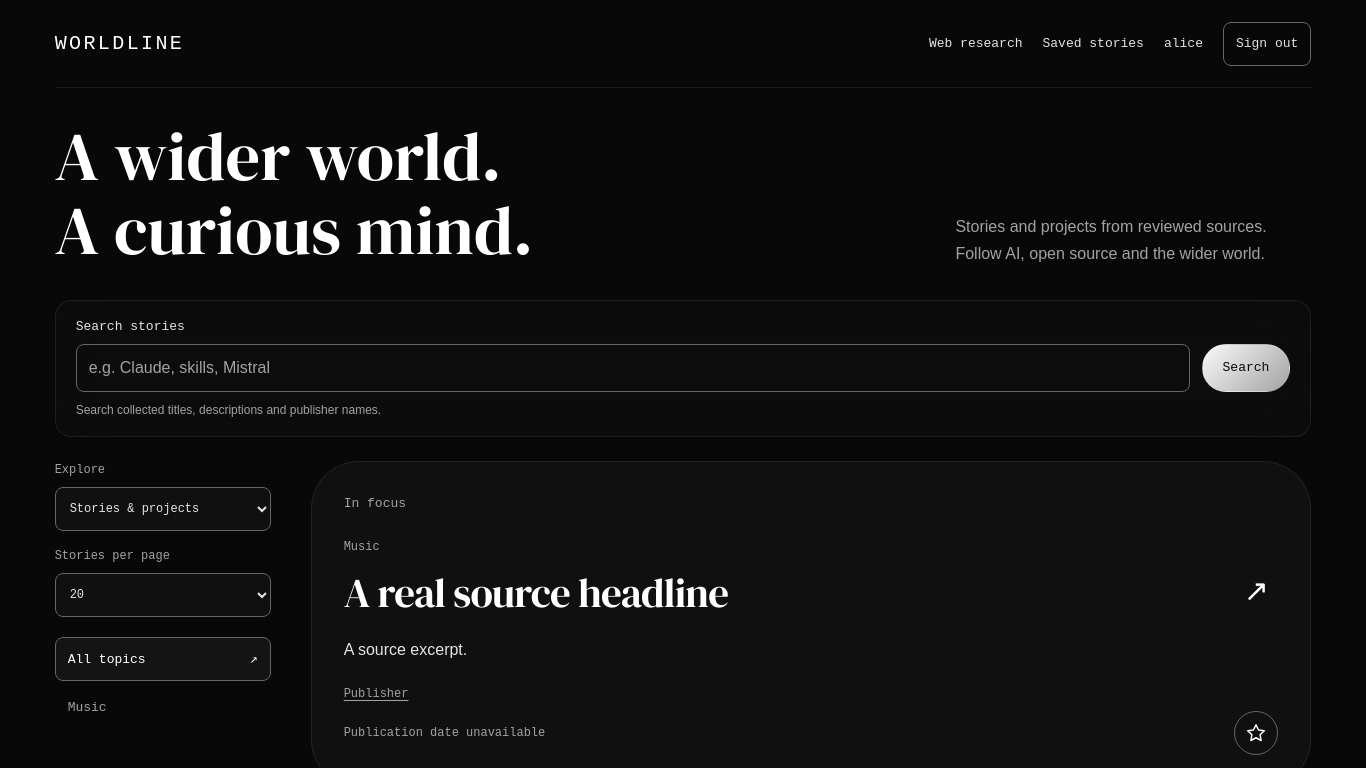
Scenario: clears saved views on sign out and shows the signed-out collection gate
This screenshot has width=1366, height=768.
Click the button named "Save story". click: (1256, 733)
box: [1234,711,1278,755]
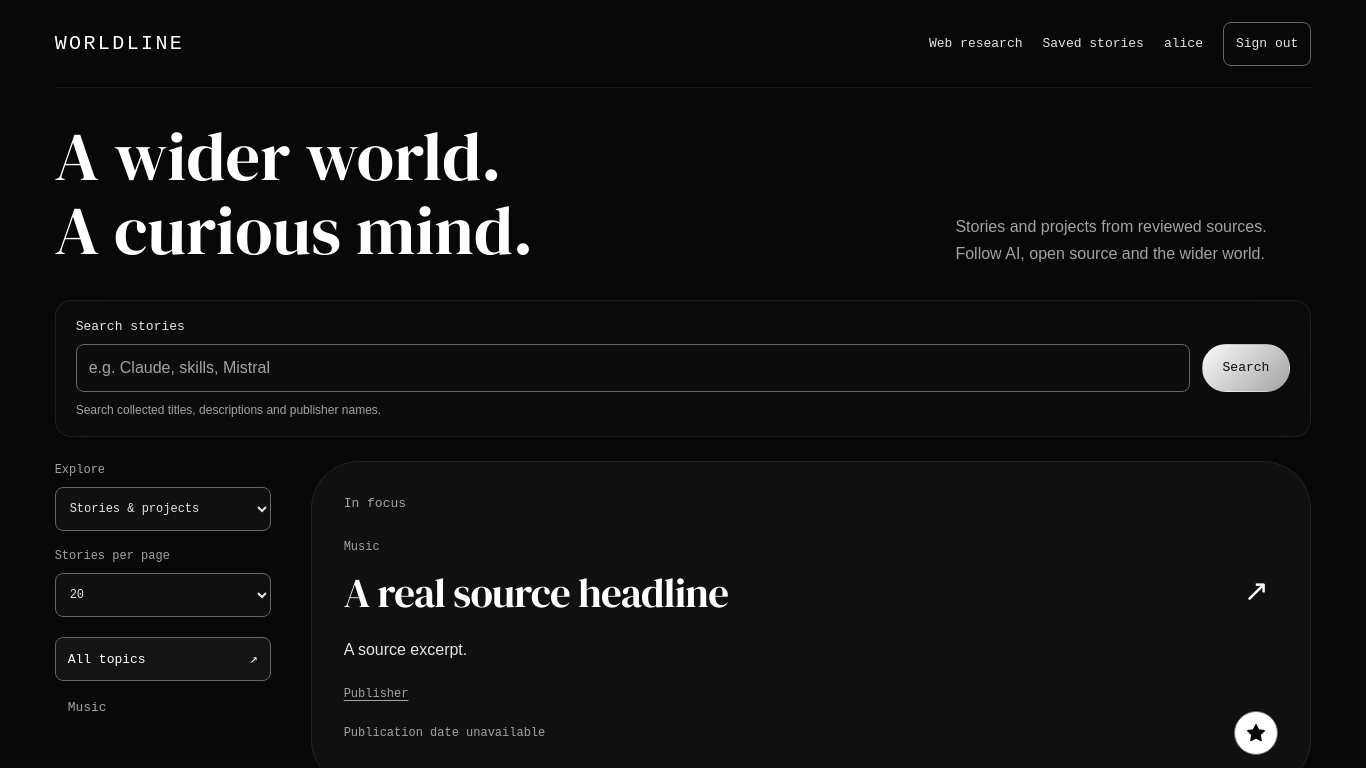
Expected: the button named "Remove bookmark" is shown, [1234,711,1278,755]
Click the button "Sign out". click: (1267, 44)
box: [1223,22,1311,66]
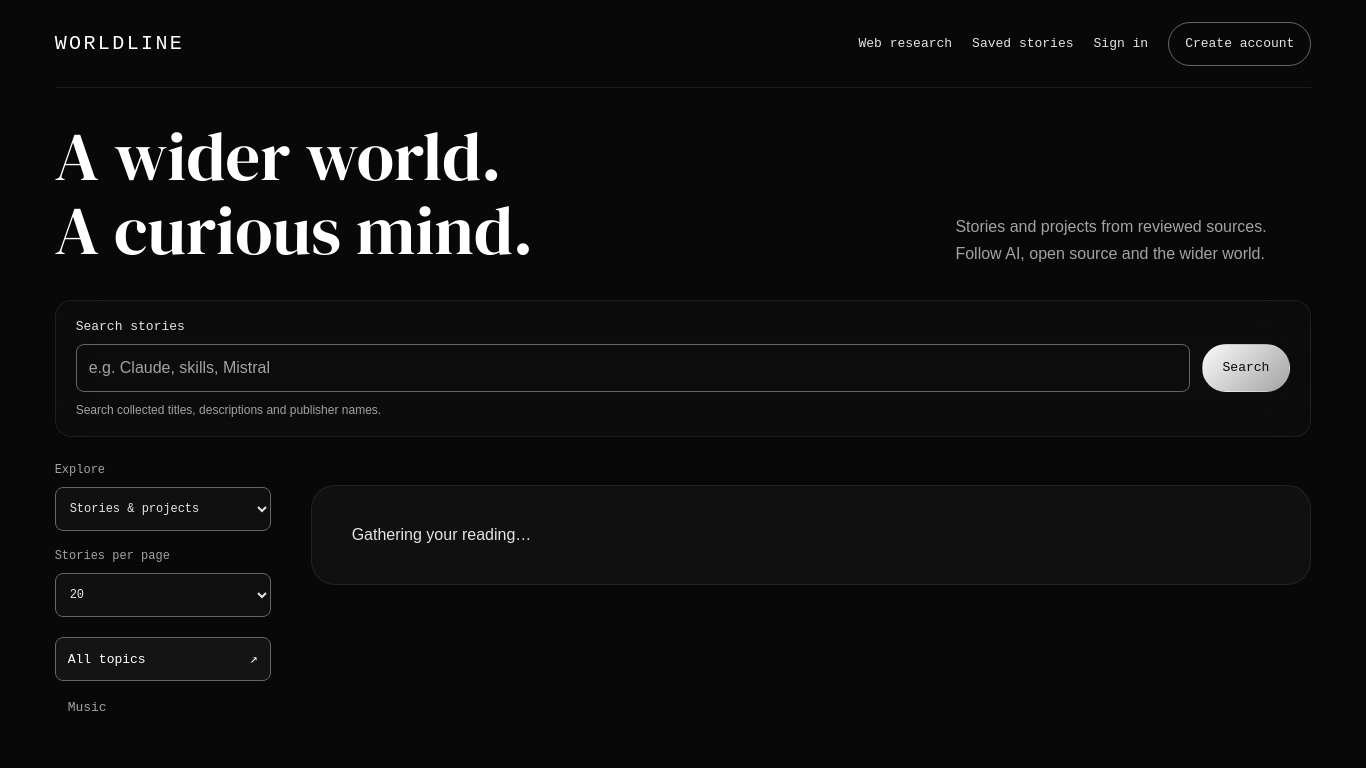
Click the link "Saved stories". click: (1023, 43)
box: [972,36,1074,51]
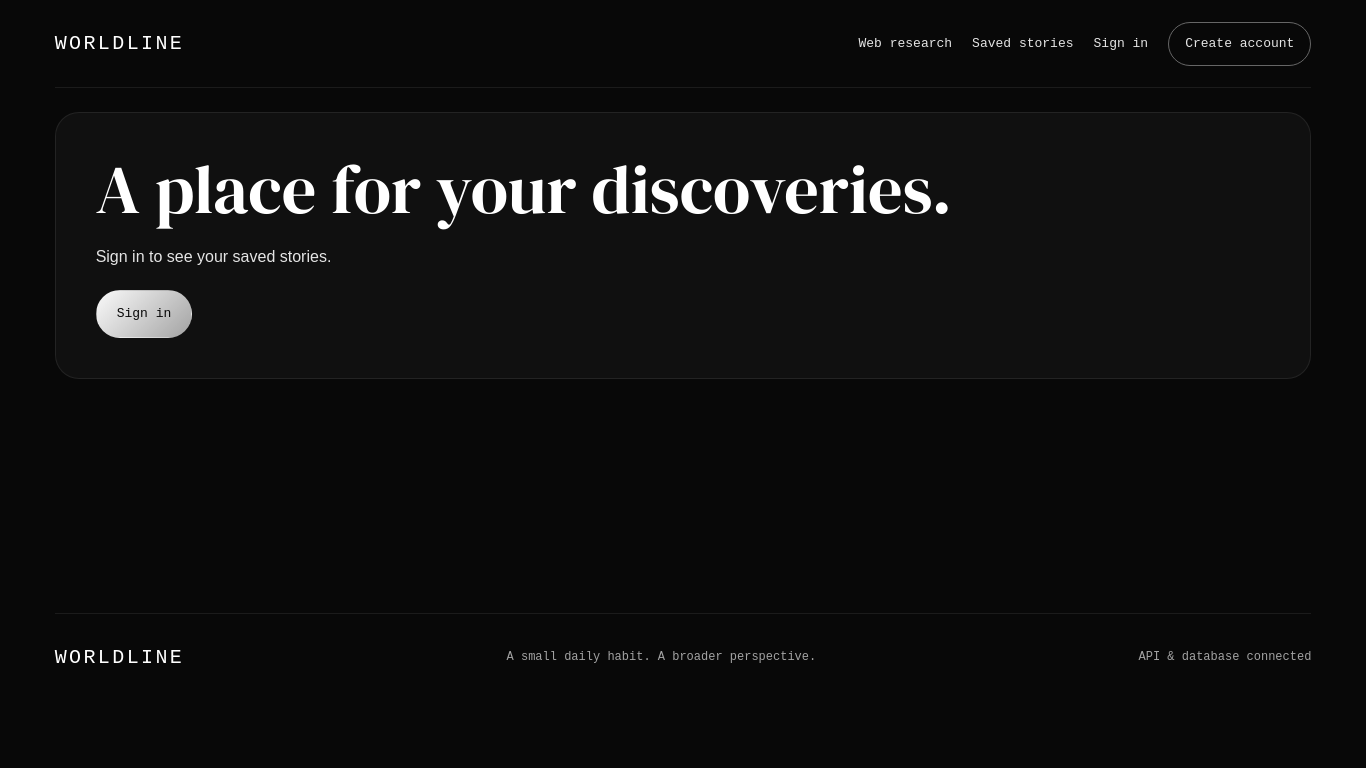
Expected: the link "A real source headline" is not shown
Expected: the text "Sign in to see your saved stories." is shown, [96,248,331,265]
